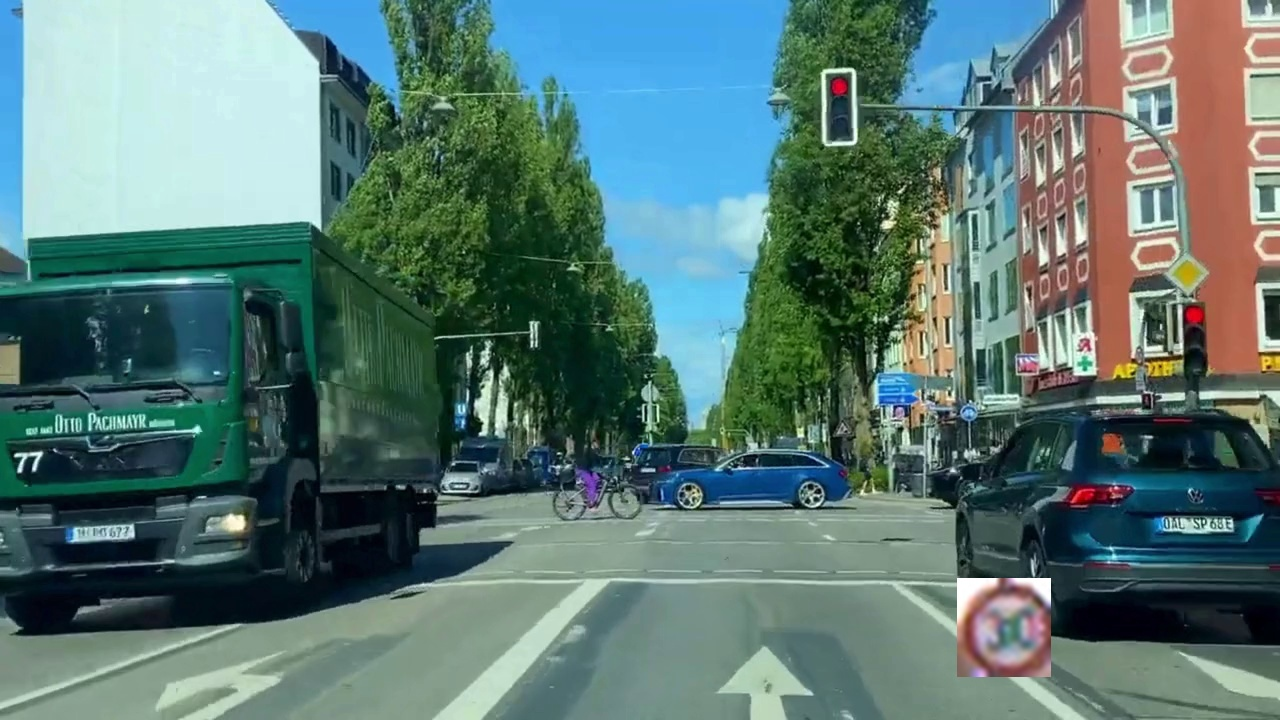Speed 30: (957, 578, 1051, 677)
